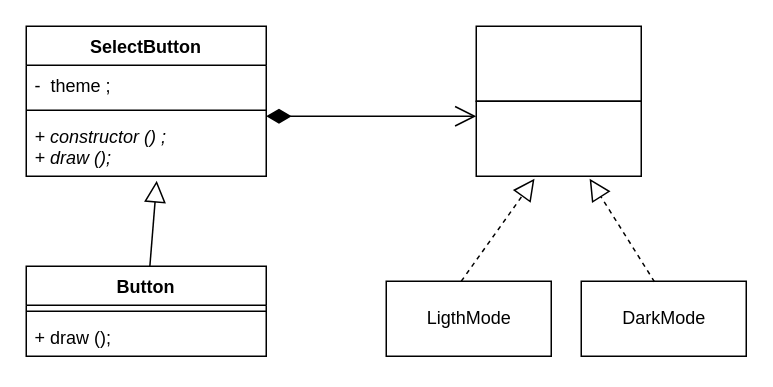
This 773x387 diagram has some shape labels left out. The centre of each missing label's shape, as x and y in pixels:
+ background (); + line color (): the point at 558,138
«interface» Theme: the point at 558,63
